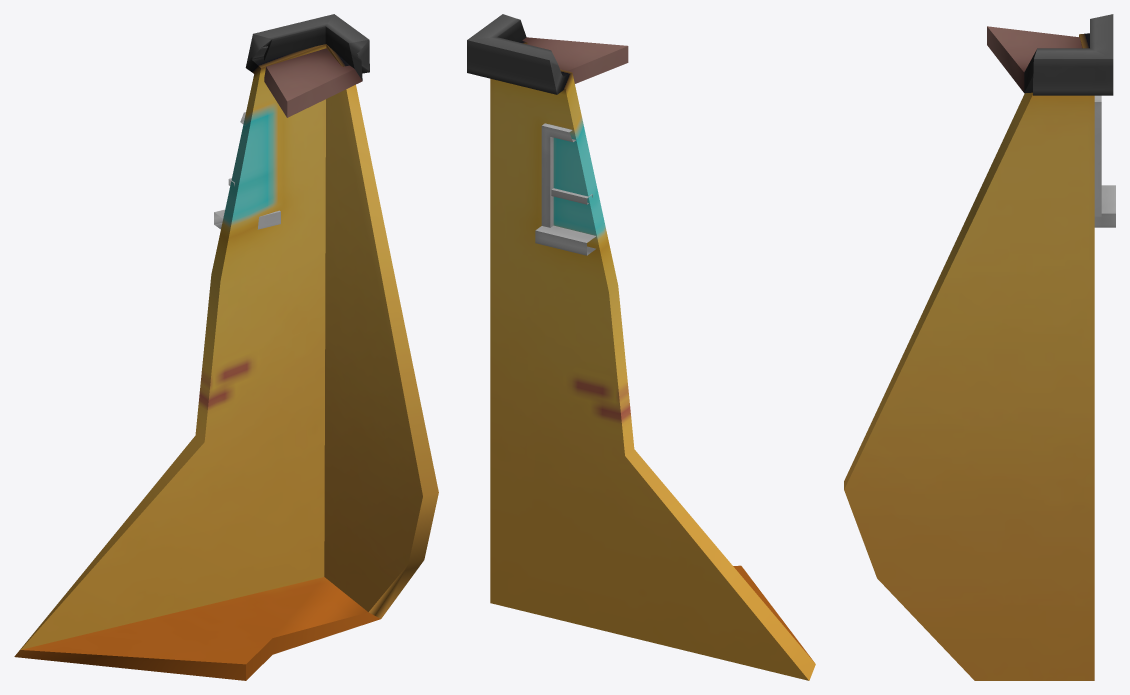
File: B8Broke05.FBX
3 views of the same model, side by side, from view 1: azimuth 30°, elevation 25°; view 2: azimuth 150°, elevation 25°; view 3: azimuth 270°, elevation 25° (orthographic). The views are drawn at different scales.
Parts seen in each view (by area): view 1: B8Broke05; view 2: B8Broke05; view 3: B8Broke05.
Boxes of the visible parts, left/top/right/bottom form: B8Broke05: left=14, top=14, right=438, bottom=680; B8Broke05: left=467, top=14, right=815, bottom=680; B8Broke05: left=844, top=14, right=1115, bottom=680.
Size of the model in its own units: 41.61 by 67.36 by 26.34.
